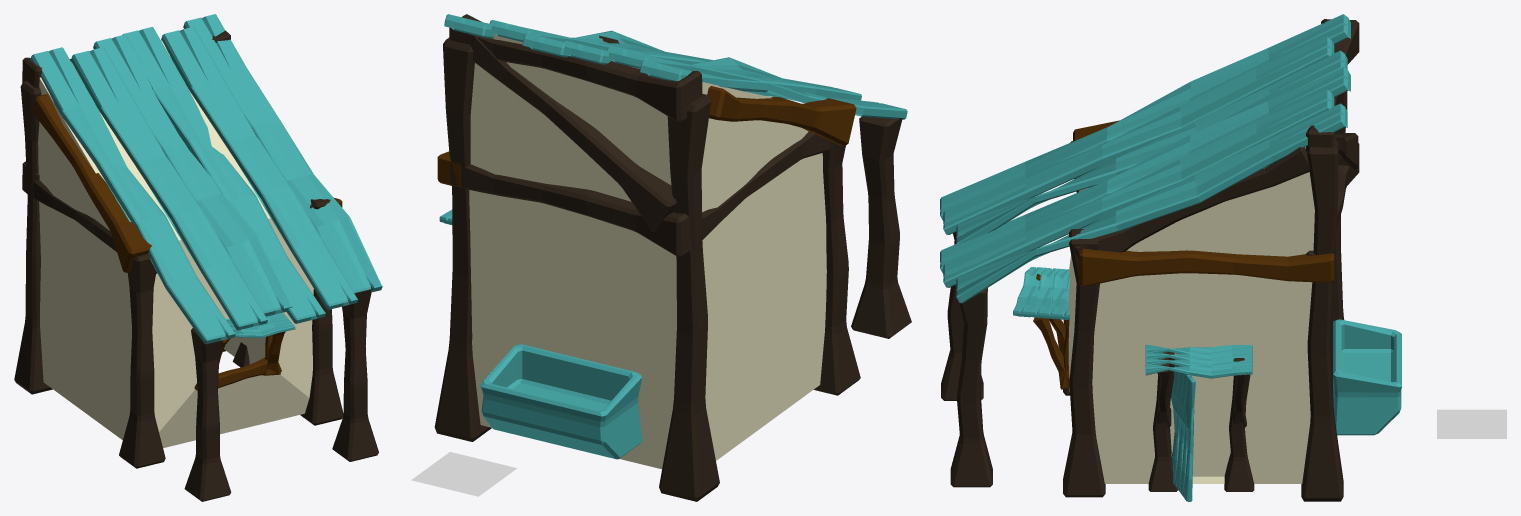
Rendered from House2.fbx.
The picture shows the model from 3 angles, left to right: view 1: azimuth 30°, elevation 25°; view 2: azimuth 150°, elevation 25°; view 3: azimuth 270°, elevation 25°; orthographic projection. The views are drawn at different scales.
Parts seen in each view (by area): view 1: Cube.003, Roof 3, Roof 3.001, Roof 2, Roof 1.001, Roof 1, Roof 2.001, Cube.005, Cube.007, Cube.001, Cube.002, Cube.017 (+6 smaller); view 2: Cube.003, Cube, Cube.007, Cube.006, Cube.002, Cube.012, Cube.010, Cube.005, Cube.011, Cube.017, Roof 2, Plane (+7 smaller); view 3: Cube.003, Roof 3, Roof 3.001, Cube.006, Roof 1.001, Cube, Roof 2, Roof 2.001, Cube.018, Cube.004, Roof 1, Cube.001 (+19 smaller).
Boxes of the visible parts, x1,y1,x2,y2 form: Cube.003: [38, 40, 313, 448]; Roof 3: [71, 47, 267, 330]; Roof 3.001: [161, 27, 358, 309]; Roof 2: [30, 47, 235, 344]; Roof 1.001: [183, 14, 382, 293]; Roof 1: [93, 34, 292, 316]; Roof 2.001: [122, 27, 325, 323]; Cube.005: [119, 254, 165, 468]; Cube.007: [14, 81, 52, 394]; Cube.001: [332, 287, 378, 461]; Cube.002: [184, 328, 231, 501]; Cube.017: [32, 94, 151, 272]; Cube.003: [469, 33, 826, 469]; Cube: [479, 344, 642, 459]; Cube.007: [659, 93, 719, 501]; Cube.006: [434, 37, 491, 441]; Cube.002: [851, 116, 911, 338]; Cube.012: [470, 36, 676, 231]; Cube.010: [450, 162, 702, 257]; Cube.005: [813, 141, 860, 395]; Cube.011: [449, 14, 702, 122]; Cube.017: [707, 86, 856, 146]; Roof 2: [640, 60, 907, 119]; Plane: [411, 452, 517, 496]; Cube.003: [1068, 147, 1314, 483]; Roof 3: [943, 37, 1334, 234]; Roof 3.001: [943, 89, 1334, 287]; Cube.006: [1301, 138, 1343, 501]; Roof 1.001: [956, 103, 1347, 303]; Cube: [1333, 319, 1401, 435]; Roof 2: [940, 14, 1350, 220]; Roof 2.001: [940, 67, 1350, 273]; Cube.018: [1079, 248, 1334, 287]; Cube.004: [1063, 229, 1105, 497]; Roof 1: [956, 50, 1347, 244]; Cube.001: [950, 288, 992, 487].
Size of the model in its own units: 951 by 1204 by 1626.
